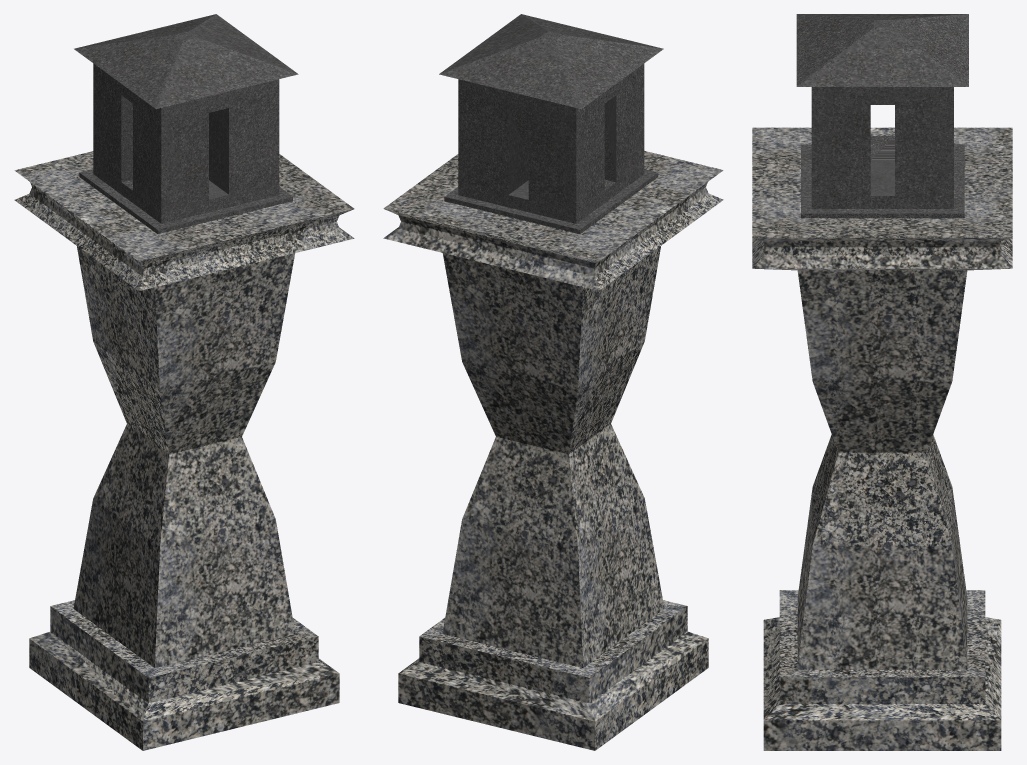
File: Lantern.glb
3 views of the same model, side by side, from view 1: azimuth 30°, elevation 25°; view 2: azimuth 150°, elevation 25°; view 3: azimuth 270°, elevation 25° (orthographic). The views are drawn at different scales.
Parts seen in each view (by area): view 1: Post, Lantern; view 2: Post, Lantern; view 3: Post, Lantern.
Part boxes in pixels (<box>): Post: <box>14,151,354,750</box>; Lantern: <box>74,14,298,234</box>; Post: <box>383,151,723,750</box>; Lantern: <box>439,14,663,234</box>; Post: <box>752,127,1012,750</box>; Lantern: <box>796,14,968,218</box>.
Size of the model in its own units: 0.701 by 2.01 by 0.701.
2 materials, 2 textured.
